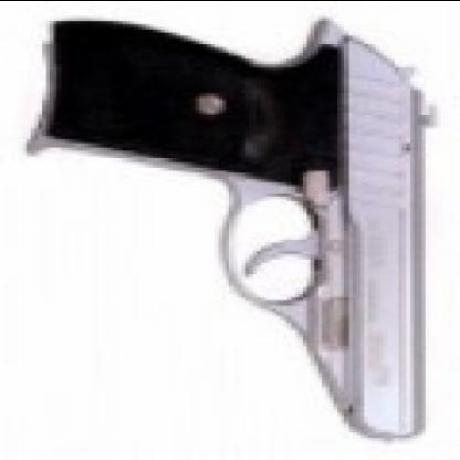weapon: (40, 8, 436, 440)
